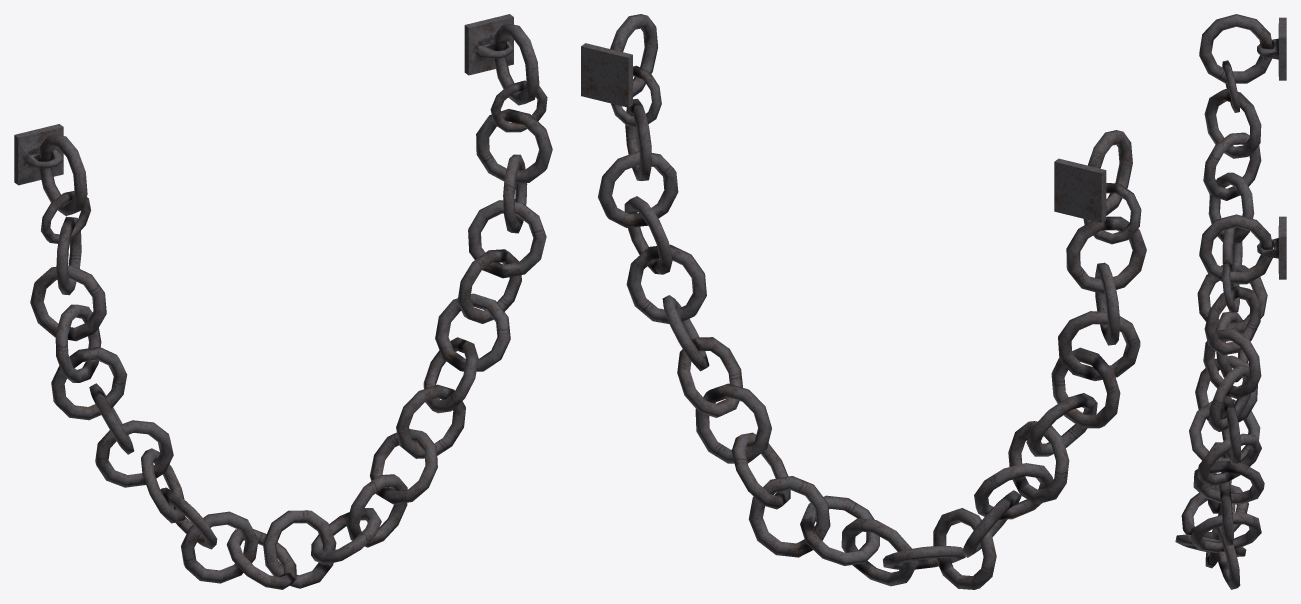
Rendered from Castle Wall Ring Chain 06.fbx.
The picture shows the model from 3 angles, left to right: view 1: azimuth 30°, elevation 25°; view 2: azimuth 150°, elevation 25°; view 3: azimuth 270°, elevation 25°; orthographic projection. The views are drawn at different scales.
Parts seen in each view (by area): view 1: Cube; view 2: Cube; view 3: Cube.
Part boxes in pixels (x1=…): Cube: x1=14, y1=14, x2=552, y2=589; Cube: x1=581, y1=14, x2=1146, y2=589; Cube: x1=1175, y1=14, x2=1286, y2=589.
Size of the model in its own units: 137 by 128 by 28.87.
